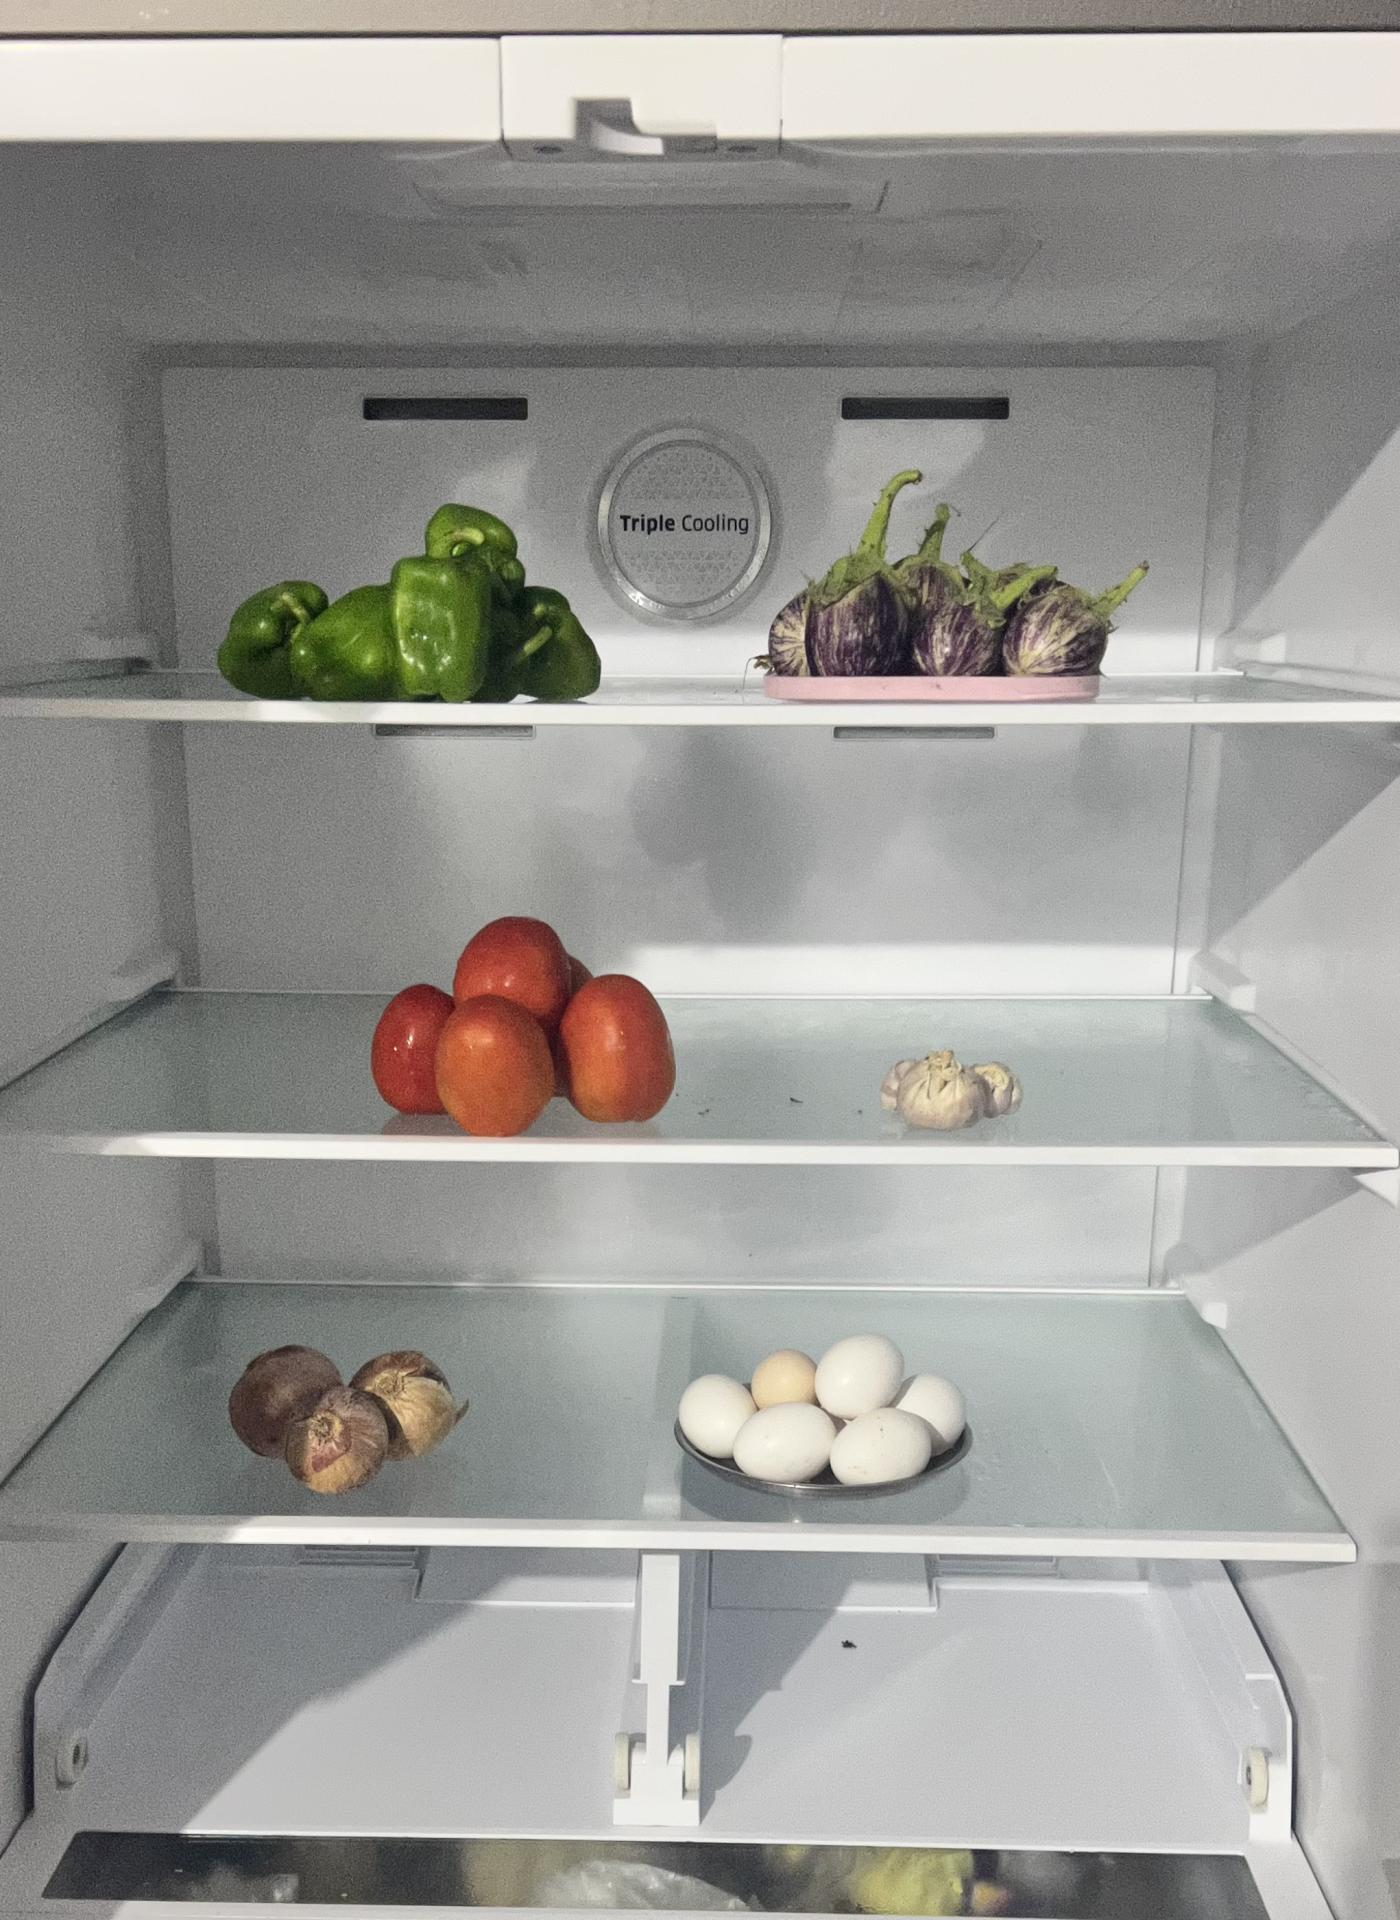brinjal: (763, 538, 1136, 680)
capsicum: (219, 502, 607, 701)
egg: (672, 1333, 969, 1485)
garlic: (883, 1043, 1026, 1131)
onion: (227, 1339, 462, 1492)
tomato: (371, 920, 677, 1137)
